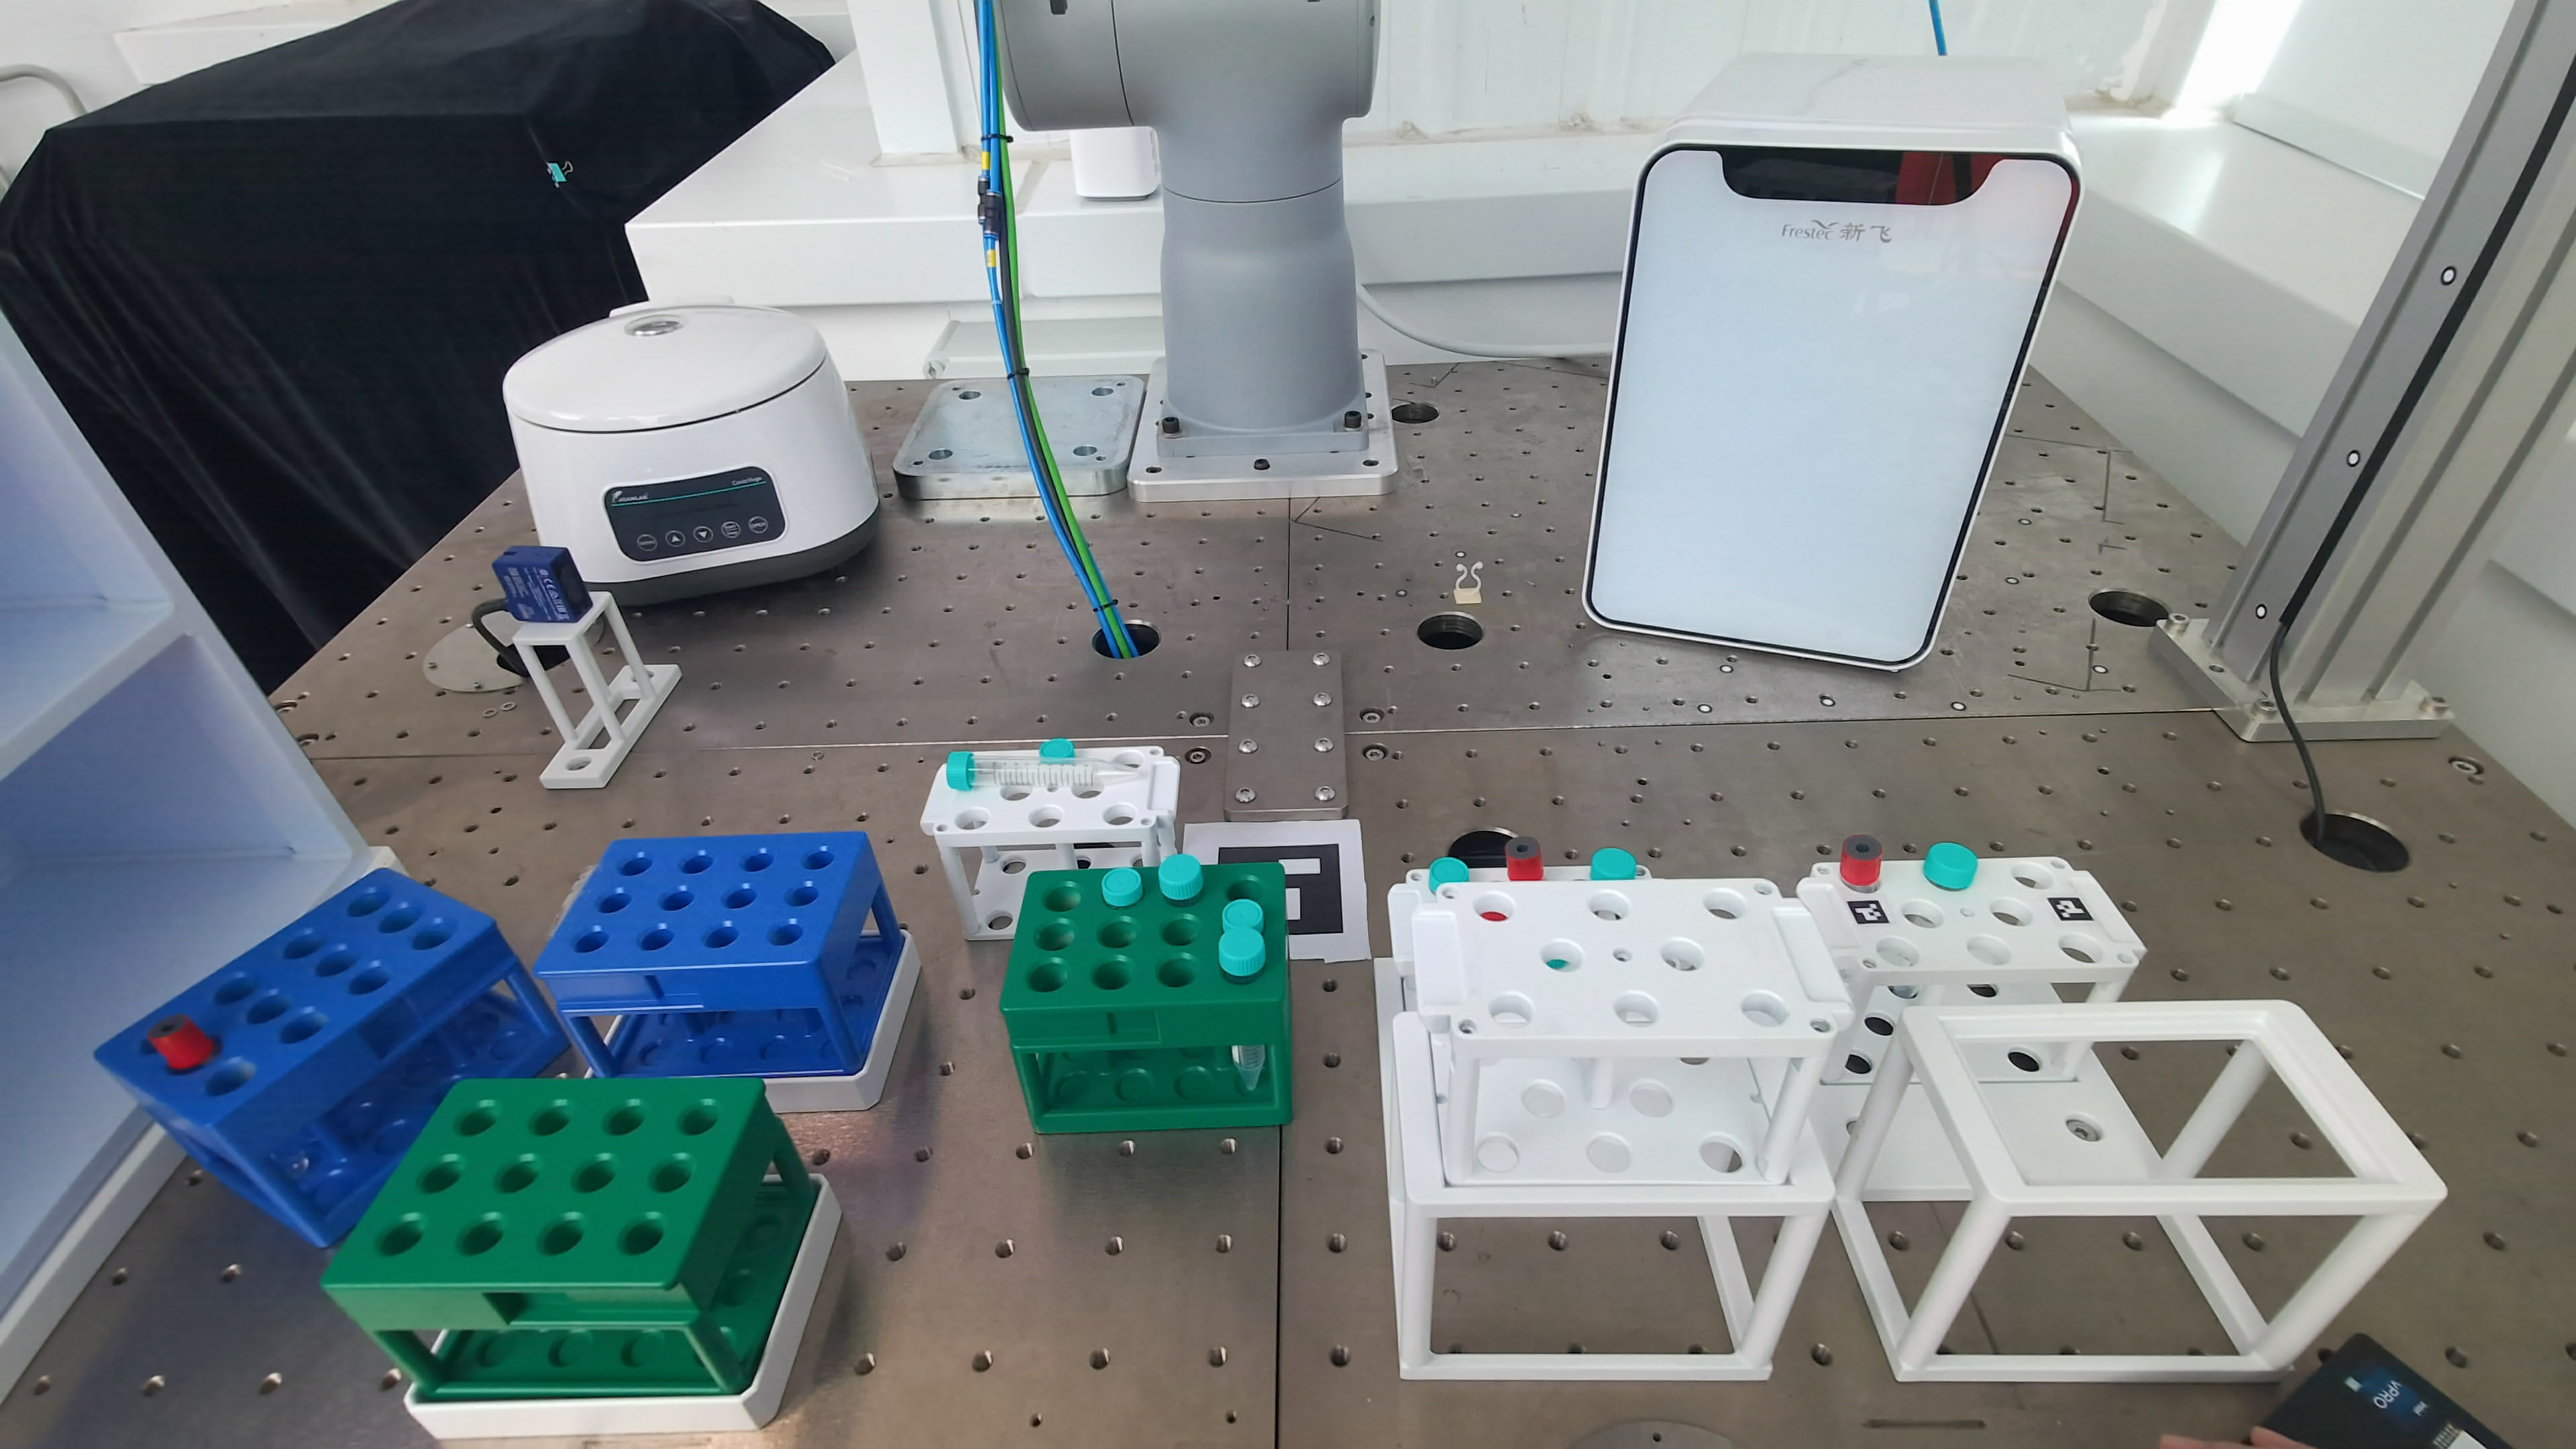10ML_centrifuge_tube: (947, 752, 1134, 791), (1219, 899, 1267, 978), (1923, 842, 1978, 892), (1157, 853, 1203, 902), (1589, 847, 1638, 881)
10ML_sorting_tube_rack: (96, 870, 566, 1246), (536, 833, 897, 1077)
5ML_centrifuge_tube: (1102, 867, 1143, 908), (1221, 899, 1263, 931), (1040, 740, 1074, 761)
5ML_sorting_tube_rack: (322, 1077, 817, 1403), (1001, 865, 1292, 1132)
blood_tube: (147, 1016, 216, 1072), (1840, 835, 1882, 888)
centrifuge_close: (504, 304, 879, 607)
dispensing_tube_rack: (1378, 847, 2445, 1382), (922, 745, 1180, 939)
refrigerator_close: (1583, 55, 2081, 669)
sorting_tube_rack_base: (405, 1178, 840, 1438), (763, 934, 920, 1113)
tube_rack_storage_cabinet: (0, 320, 389, 1394)
